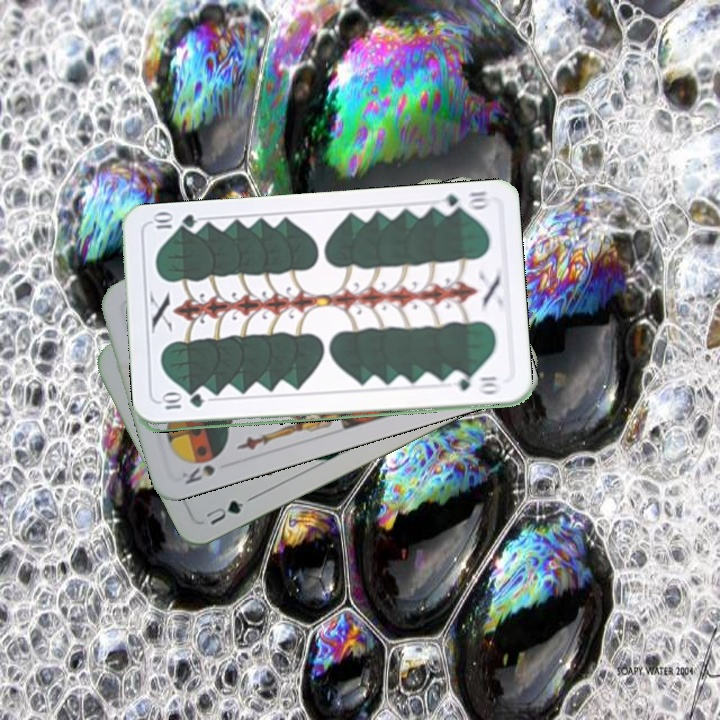G10: (434, 187, 490, 217), (157, 393, 207, 412)
GU: (200, 496, 247, 528)
SK: (177, 460, 218, 487)
